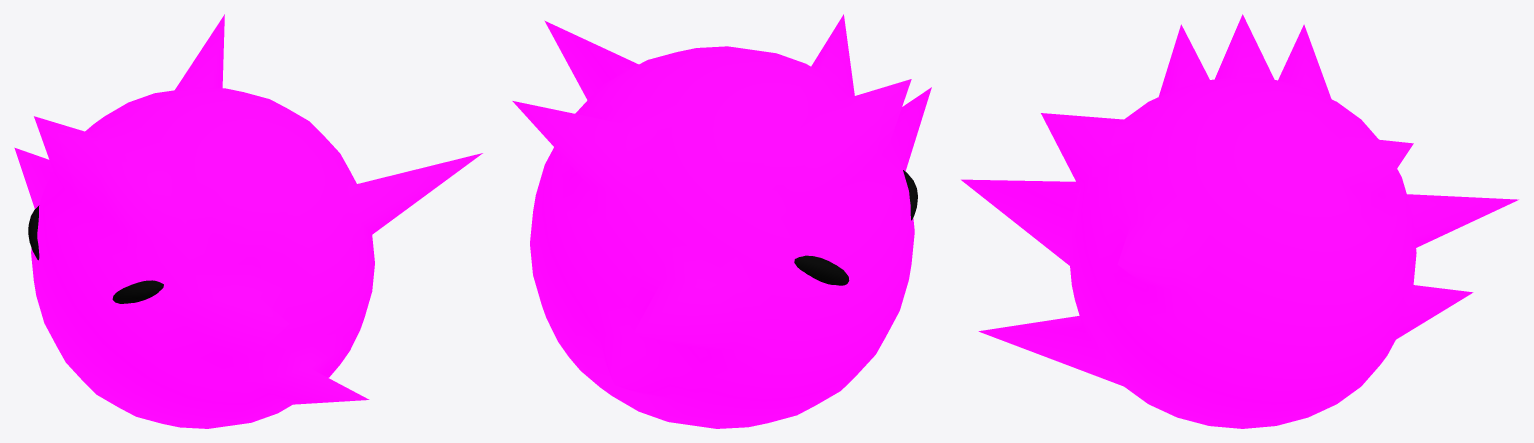
The model's file is SpikeSlime.fbx.
3 views of the same model, side by side, from view 1: azimuth 30°, elevation 25°; view 2: azimuth 150°, elevation 25°; view 3: azimuth 270°, elevation 25° (orthographic). The views are drawn at different scales.
Parts seen in each view (by area): view 1: Cube.002; view 2: Cube.002; view 3: Cube.002.
Boxes of the visible parts, bbox=[...] form: Cube.002: bbox=[14, 14, 482, 428]; Cube.002: bbox=[512, 14, 931, 428]; Cube.002: bbox=[961, 14, 1518, 428].
Bounding box in the file's own units: 210 × 172 × 270.
